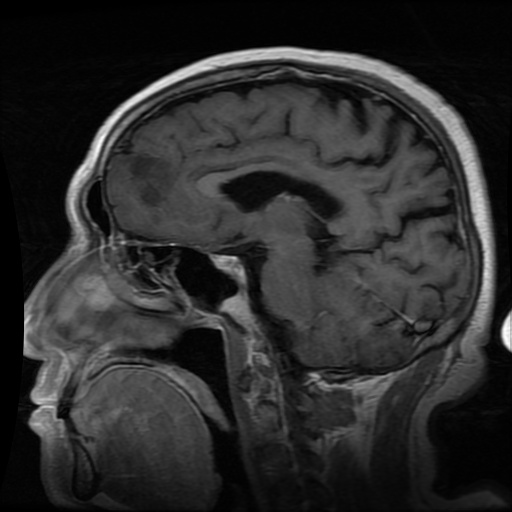glioma: (129, 152, 180, 207)
